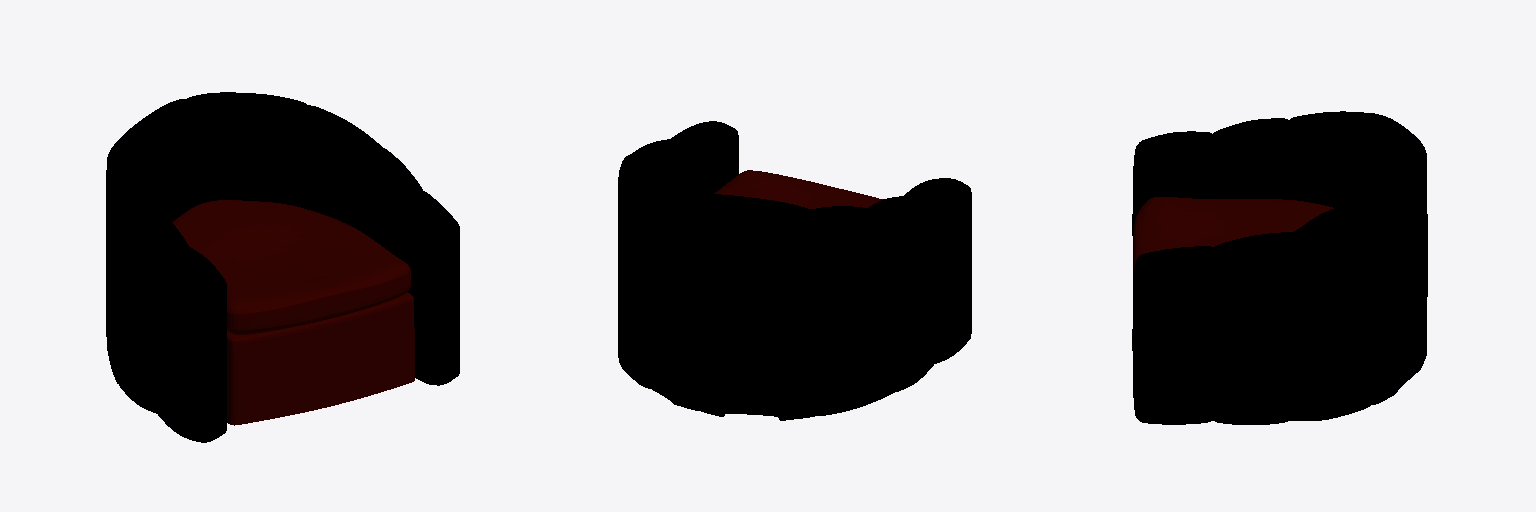
3 views of the same model, side by side, from view 1: azimuth 30°, elevation 25°; view 2: azimuth 150°, elevation 25°; view 3: azimuth 270°, elevation 25° (orthographic).
Parts seen in each view (by area): view 1: dosseira_Plane, almofada_Plane.001, base_Plane.002; view 2: dosseira_Plane, almofada_Plane.001; view 3: dosseira_Plane, almofada_Plane.001.
Part boxes in pixels (x1,y1,x2,y2): dosseira_Plane: (106,92,459,442); almofada_Plane.001: (172,200,410,334); base_Plane.002: (227,292,414,425); dosseira_Plane: (618,121,971,420); almofada_Plane.001: (714,170,882,208); dosseira_Plane: (1132,111,1427,424); almofada_Plane.001: (1134,197,1333,268).
Size of the model in its own units: 8.41 by 6.55 by 7.87.